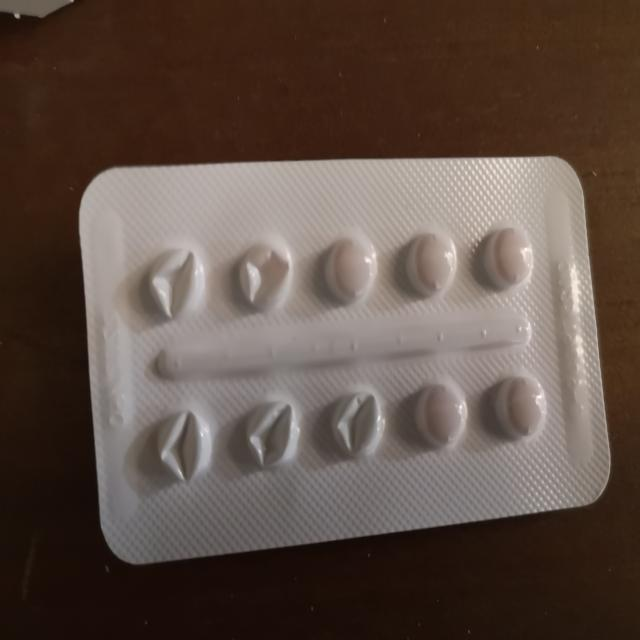Empty: (147, 398, 215, 496), (140, 237, 210, 326), (236, 389, 306, 478), (230, 234, 302, 320), (321, 384, 389, 463)
Pill: (486, 360, 549, 451), (316, 222, 379, 310), (399, 218, 461, 306), (409, 374, 469, 457), (476, 215, 538, 295)
